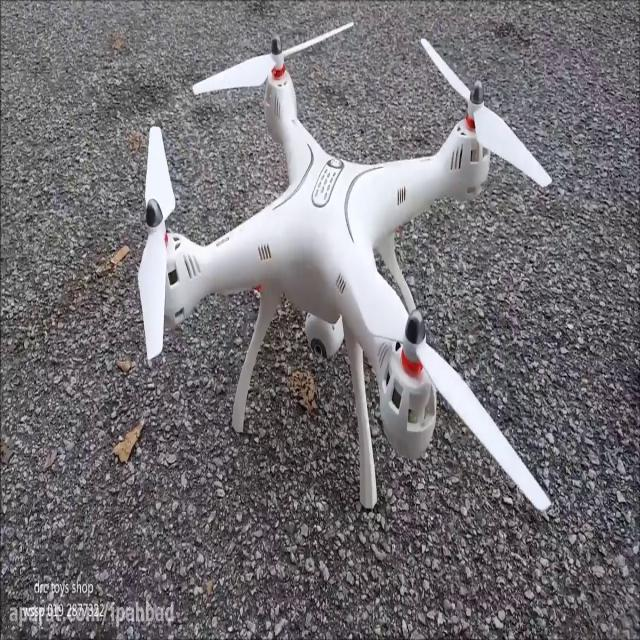drone: (136, 17, 556, 516)
